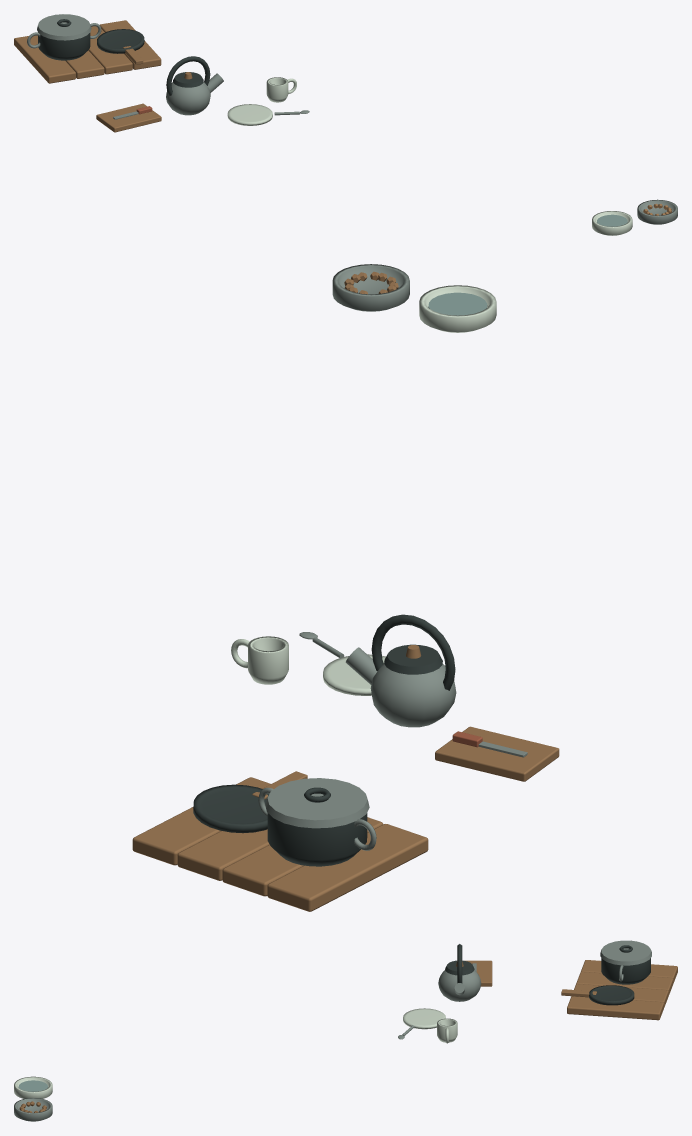
The model's file is camp-kitchen.glb.
The picture shows the model from 3 angles, top to bottom: view 1: azimuth 30°, elevation 25°; view 2: azimuth 150°, elevation 25°; view 3: azimuth 270°, elevation 25°; orthographic projection. The views are drawn at different scales.
Visible parts, largest first — view 1: replaceable-camp-kitchen; view 2: replaceable-camp-kitchen; view 3: replaceable-camp-kitchen.
Part boxes in pixels (bbox=[...]): replaceable-camp-kitchen: bbox=[14, 14, 677, 235]; replaceable-camp-kitchen: bbox=[132, 264, 559, 911]; replaceable-camp-kitchen: bbox=[14, 940, 677, 1121].
Bounding box in the file's own units: 3.28 × 0.533 × 5.84.
